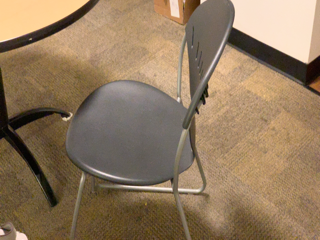Obstacle: (67, 3, 234, 238), (1, 1, 93, 206), (172, 4, 317, 83)
